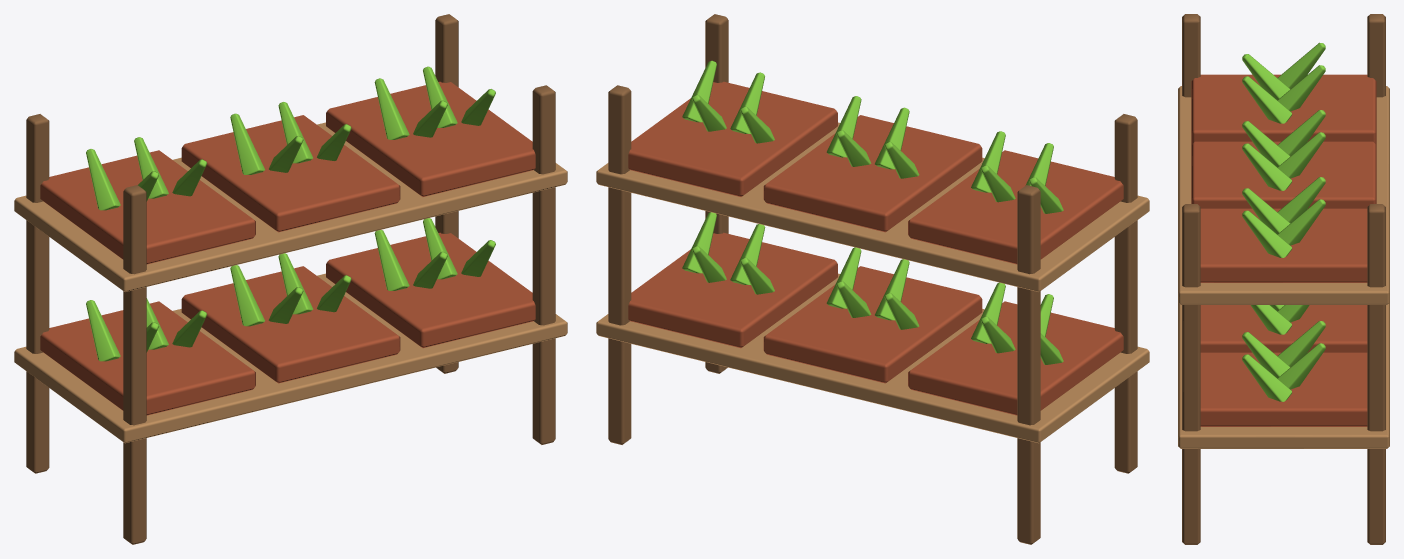
The model's file is seedling_rack.glb.
3 views of the same model, side by side, from view 1: azimuth 30°, elevation 25°; view 2: azimuth 150°, elevation 25°; view 3: azimuth 270°, elevation 25° (orthographic). The views are drawn at different scales.
Visible parts, largest first — view 1: seedling_rack; view 2: seedling_rack; view 3: seedling_rack.
Boxes of the visible parts, <box> form: seedling_rack: <box>14,14,567,544</box>; seedling_rack: <box>596,14,1149,544</box>; seedling_rack: <box>1178,14,1389,544</box>.
Bounding box in the file's own units: 1.85 × 1.4 × 0.8.
